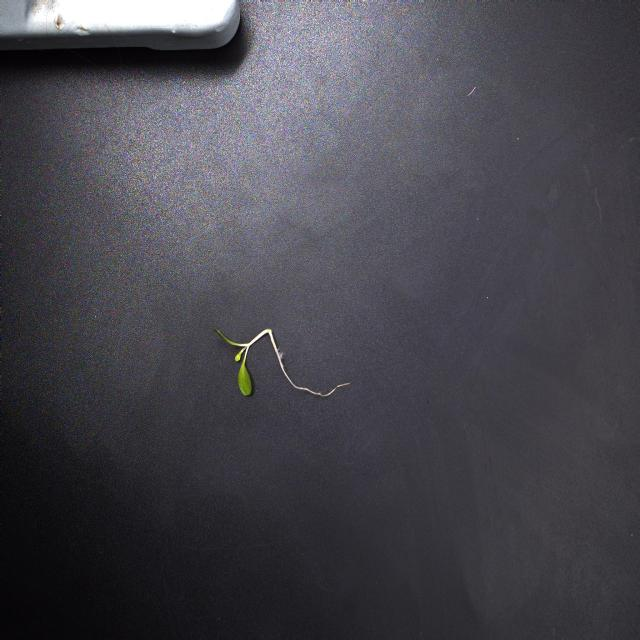leaf: (215, 328, 254, 402)
root: (270, 331, 350, 407), (276, 361, 281, 368)
steb: (247, 325, 275, 348)
